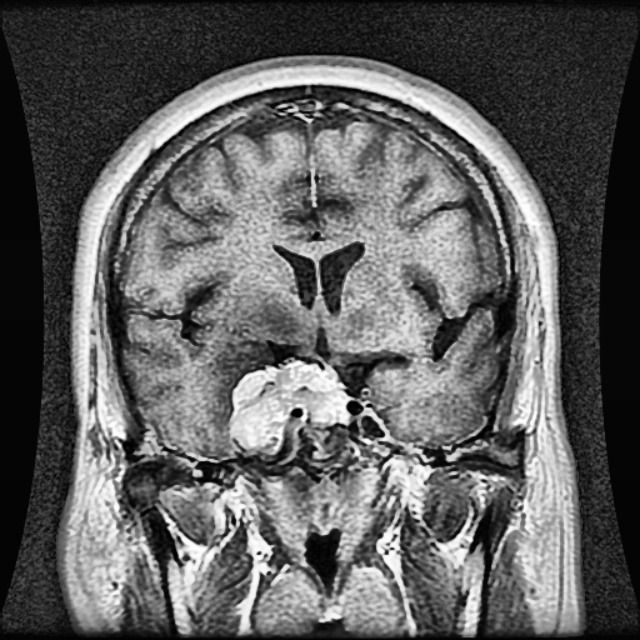Glioma: (229, 358, 349, 457)
